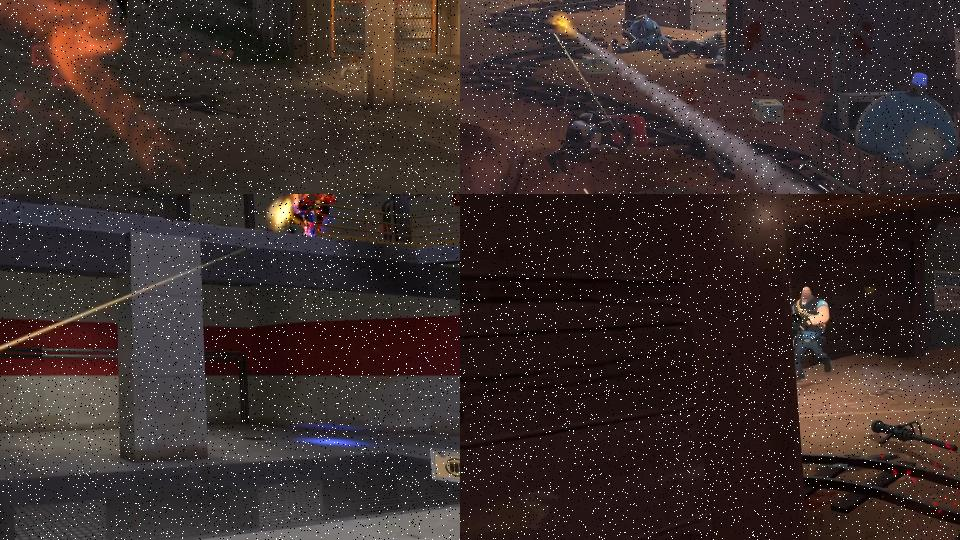Enemy: (792, 285, 833, 381), (610, 11, 678, 56), (91, 0, 191, 24), (286, 194, 331, 240)
